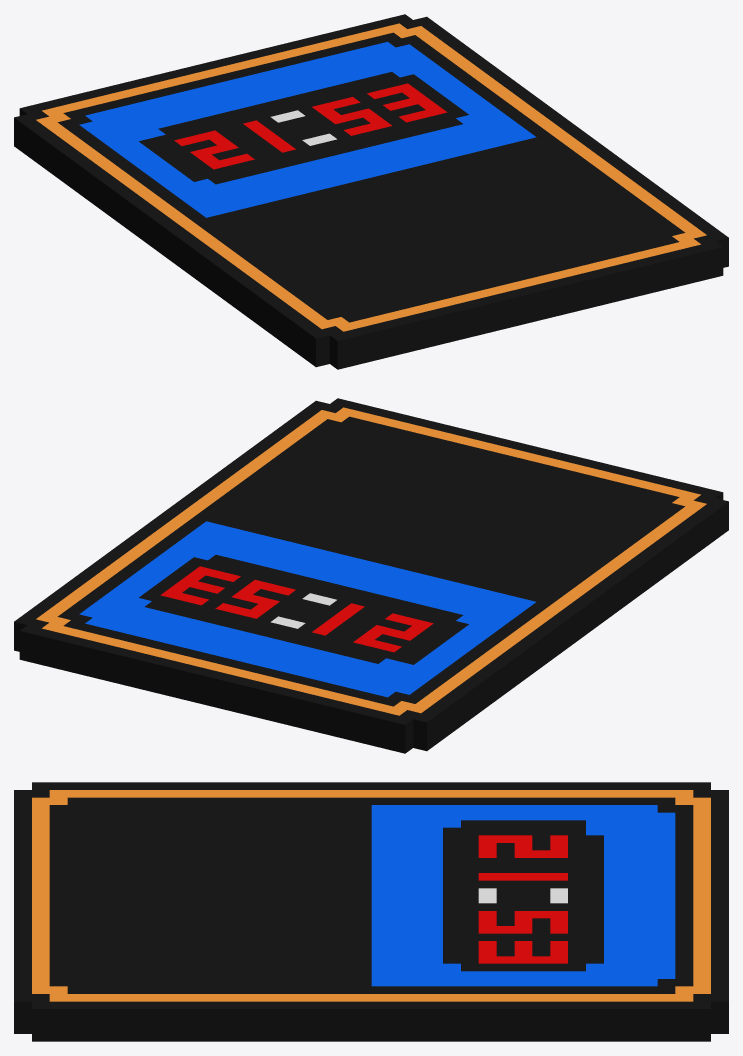
The model's file is Timer diversion-0.obj.
3 renders of one model, top to bottom at view 1: azimuth 30°, elevation 25°; view 2: azimuth 150°, elevation 25°; view 3: azimuth 270°, elevation 25°, orthographic. The views are drawn at different scales.
Size of the model in its own units: 3 by 0.2 by 4.
Materials: 1 (1 with a texture image).
